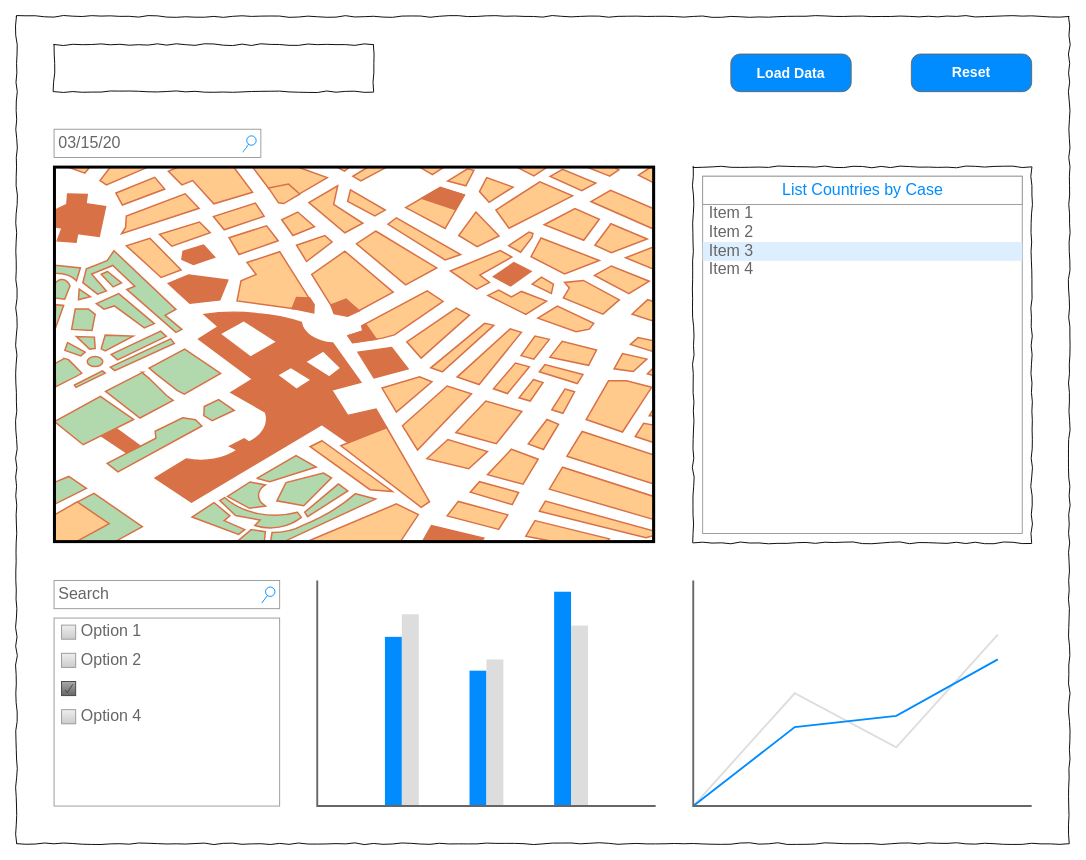
The diagram is 1086 pixels wide and 860 high, and some of its shapes have lost their labels. The box of each missing label's shape, as (x1, y1, x2, y2) in pixels:
Covid-19 Dashboard: (53, 44, 374, 92)
Option 3: (61, 681, 76, 696)
